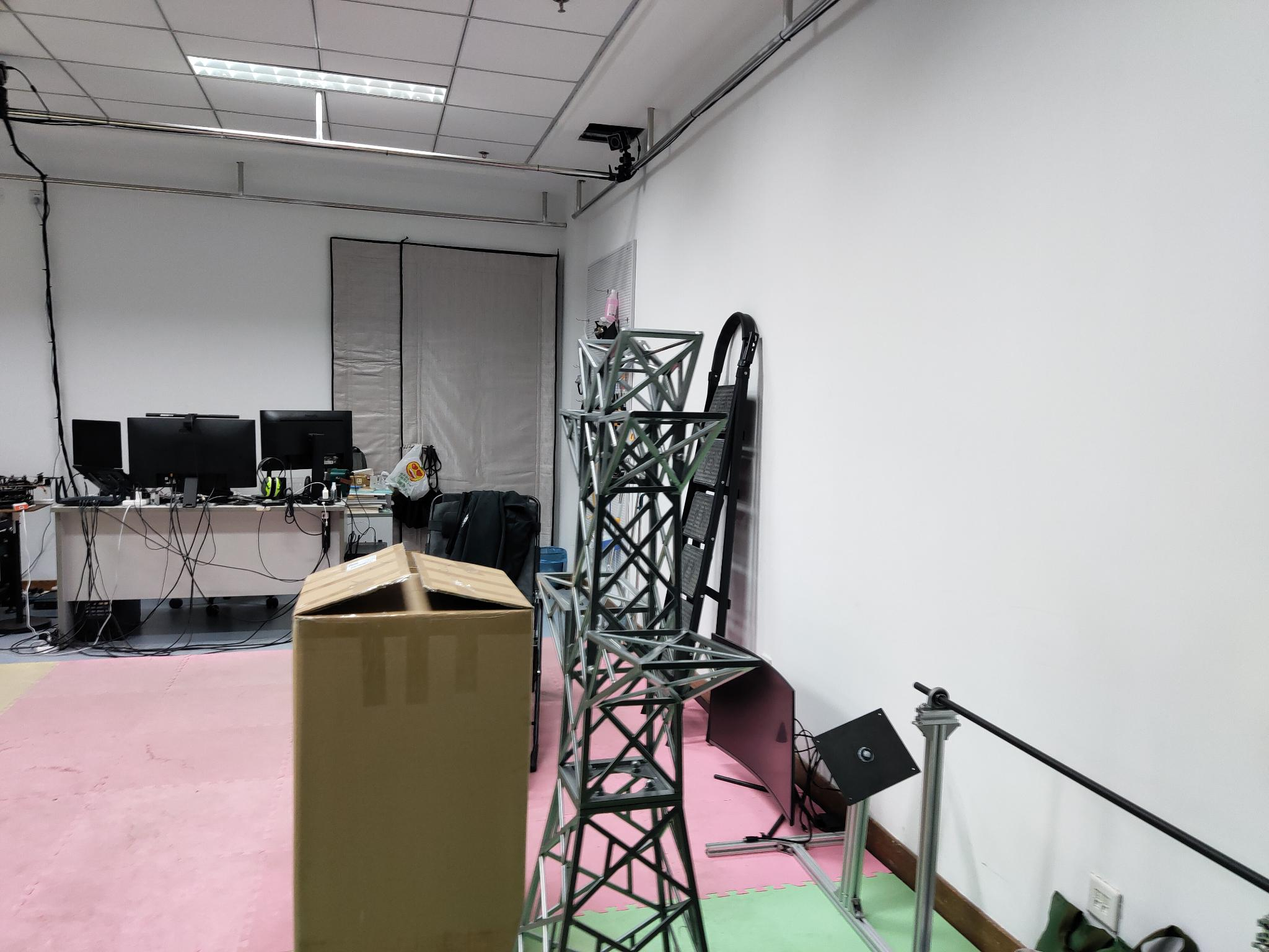tower: (528, 328, 725, 952)
